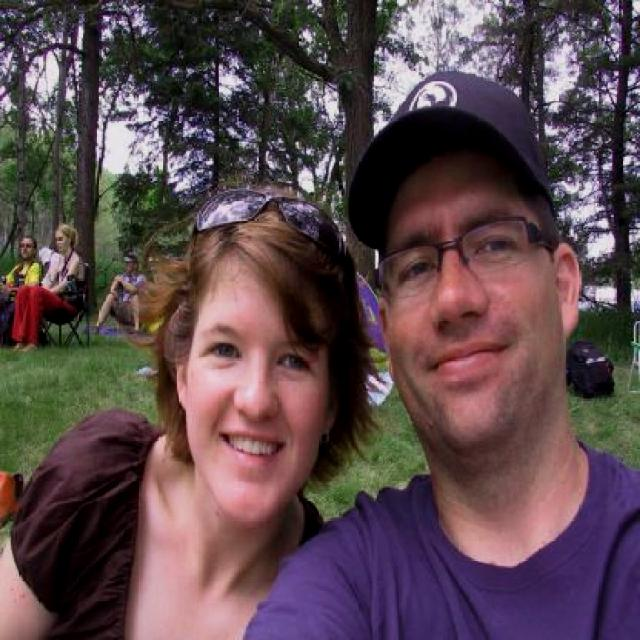face_nomask: (387, 218, 536, 419), (195, 330, 316, 485)
glasses: (376, 208, 536, 304), (193, 188, 344, 264)
head_nohelmet: (362, 70, 556, 208), (198, 182, 354, 296)
